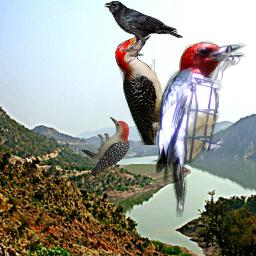Crow: (104, 0, 183, 57)
Woodpecker: (156, 41, 247, 217), (115, 27, 193, 145), (82, 116, 131, 175)
